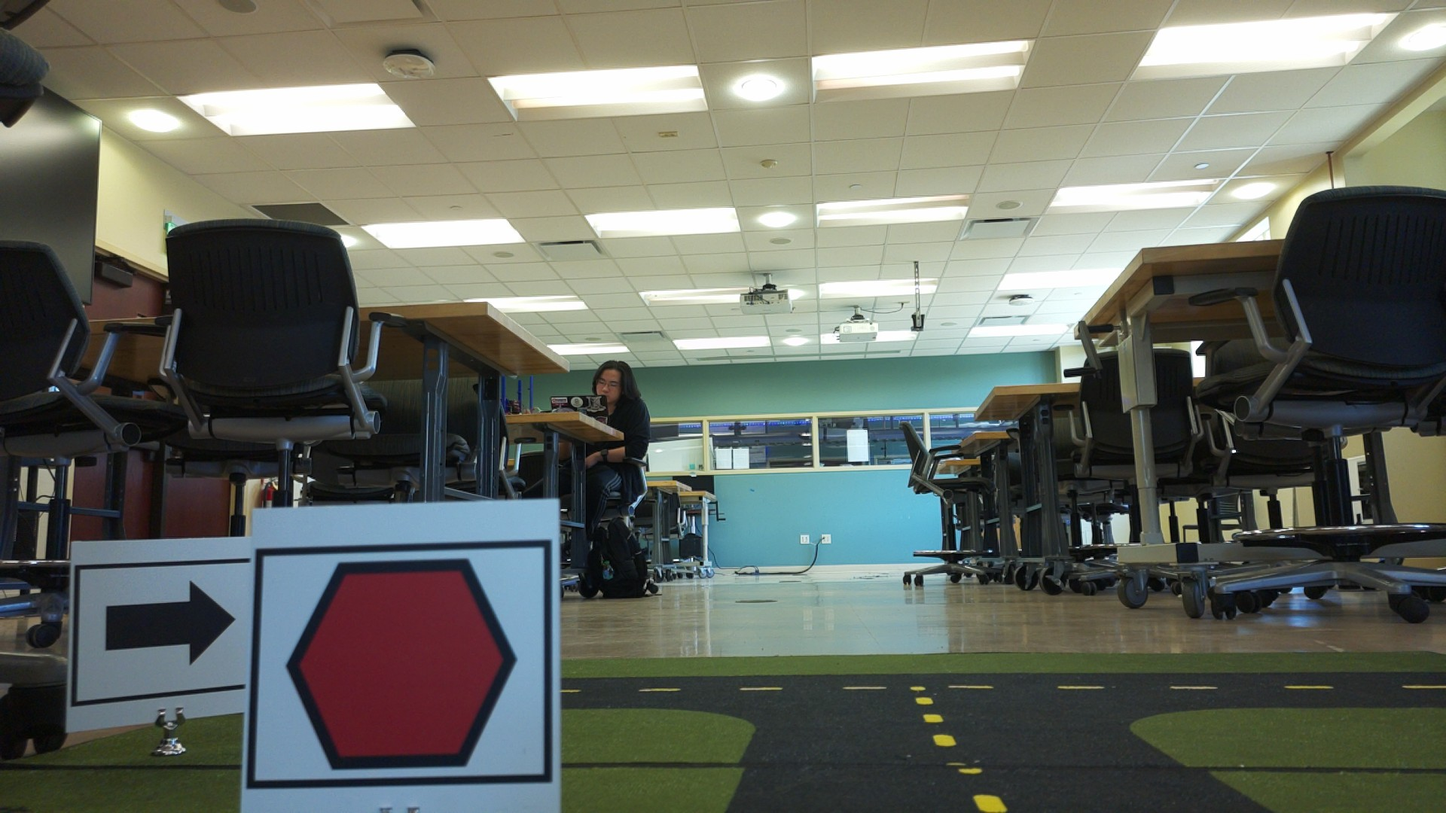stop: (275, 549, 531, 781)
turnright: (78, 573, 249, 687)
yellowline: (920, 696, 1009, 813)
